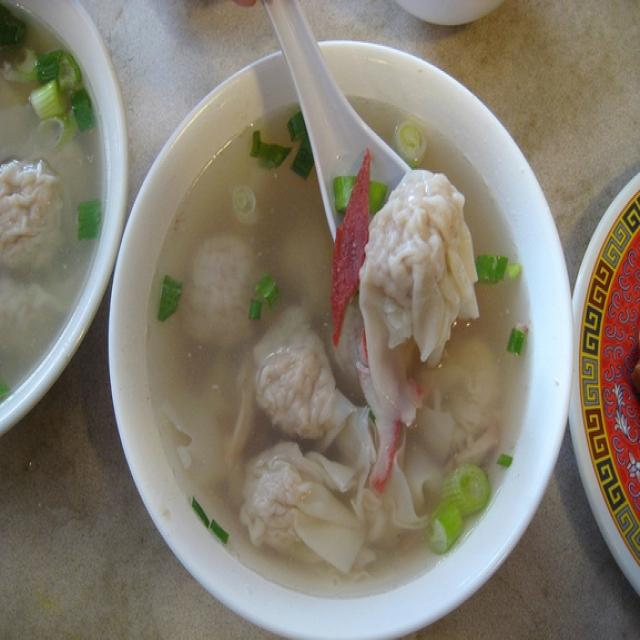汤锅炖物: (155, 114, 516, 584)
